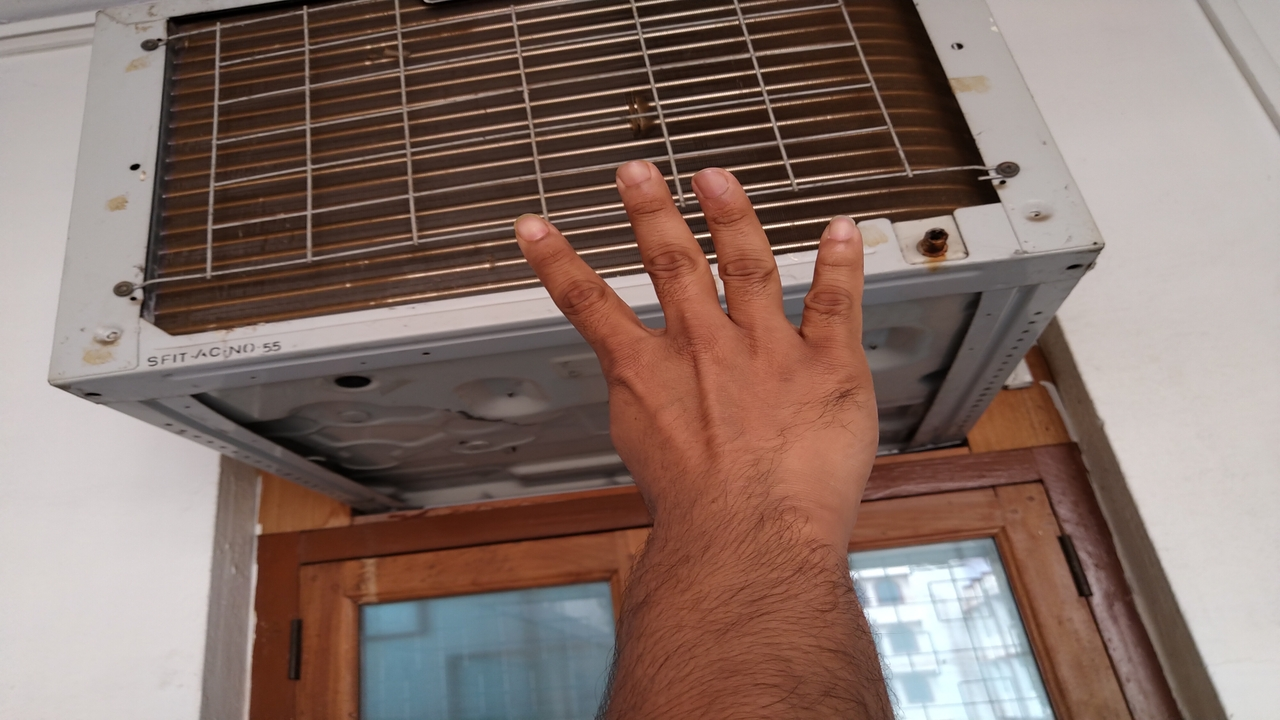fingertip: (684, 156, 758, 212), (606, 150, 670, 204), (506, 202, 560, 258), (816, 208, 872, 260)
